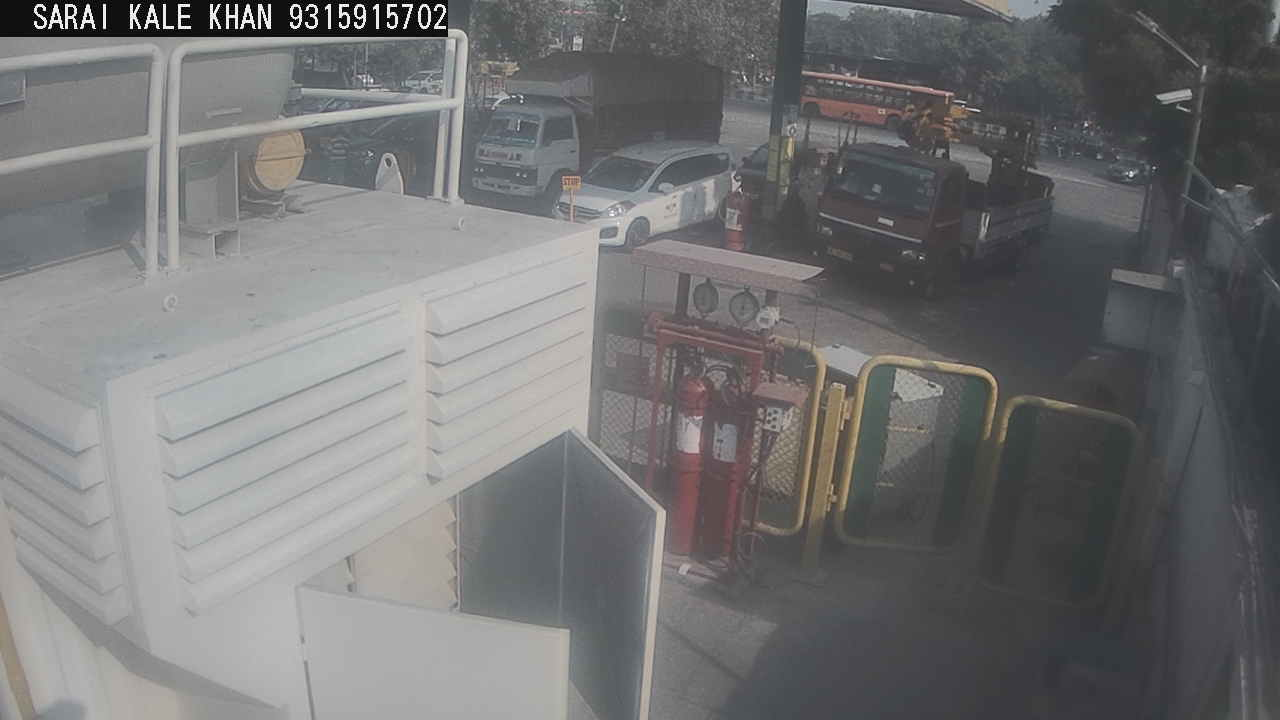Car: (535, 132, 745, 256), (329, 95, 445, 202), (279, 80, 366, 157), (721, 120, 779, 223), (453, 84, 545, 148), (1102, 144, 1171, 200), (287, 64, 359, 102), (382, 64, 453, 98)
HMV: (801, 111, 1069, 315), (459, 40, 738, 222), (783, 63, 965, 148)
Others: (324, 120, 359, 192)
Others Other: (557, 166, 592, 233)
